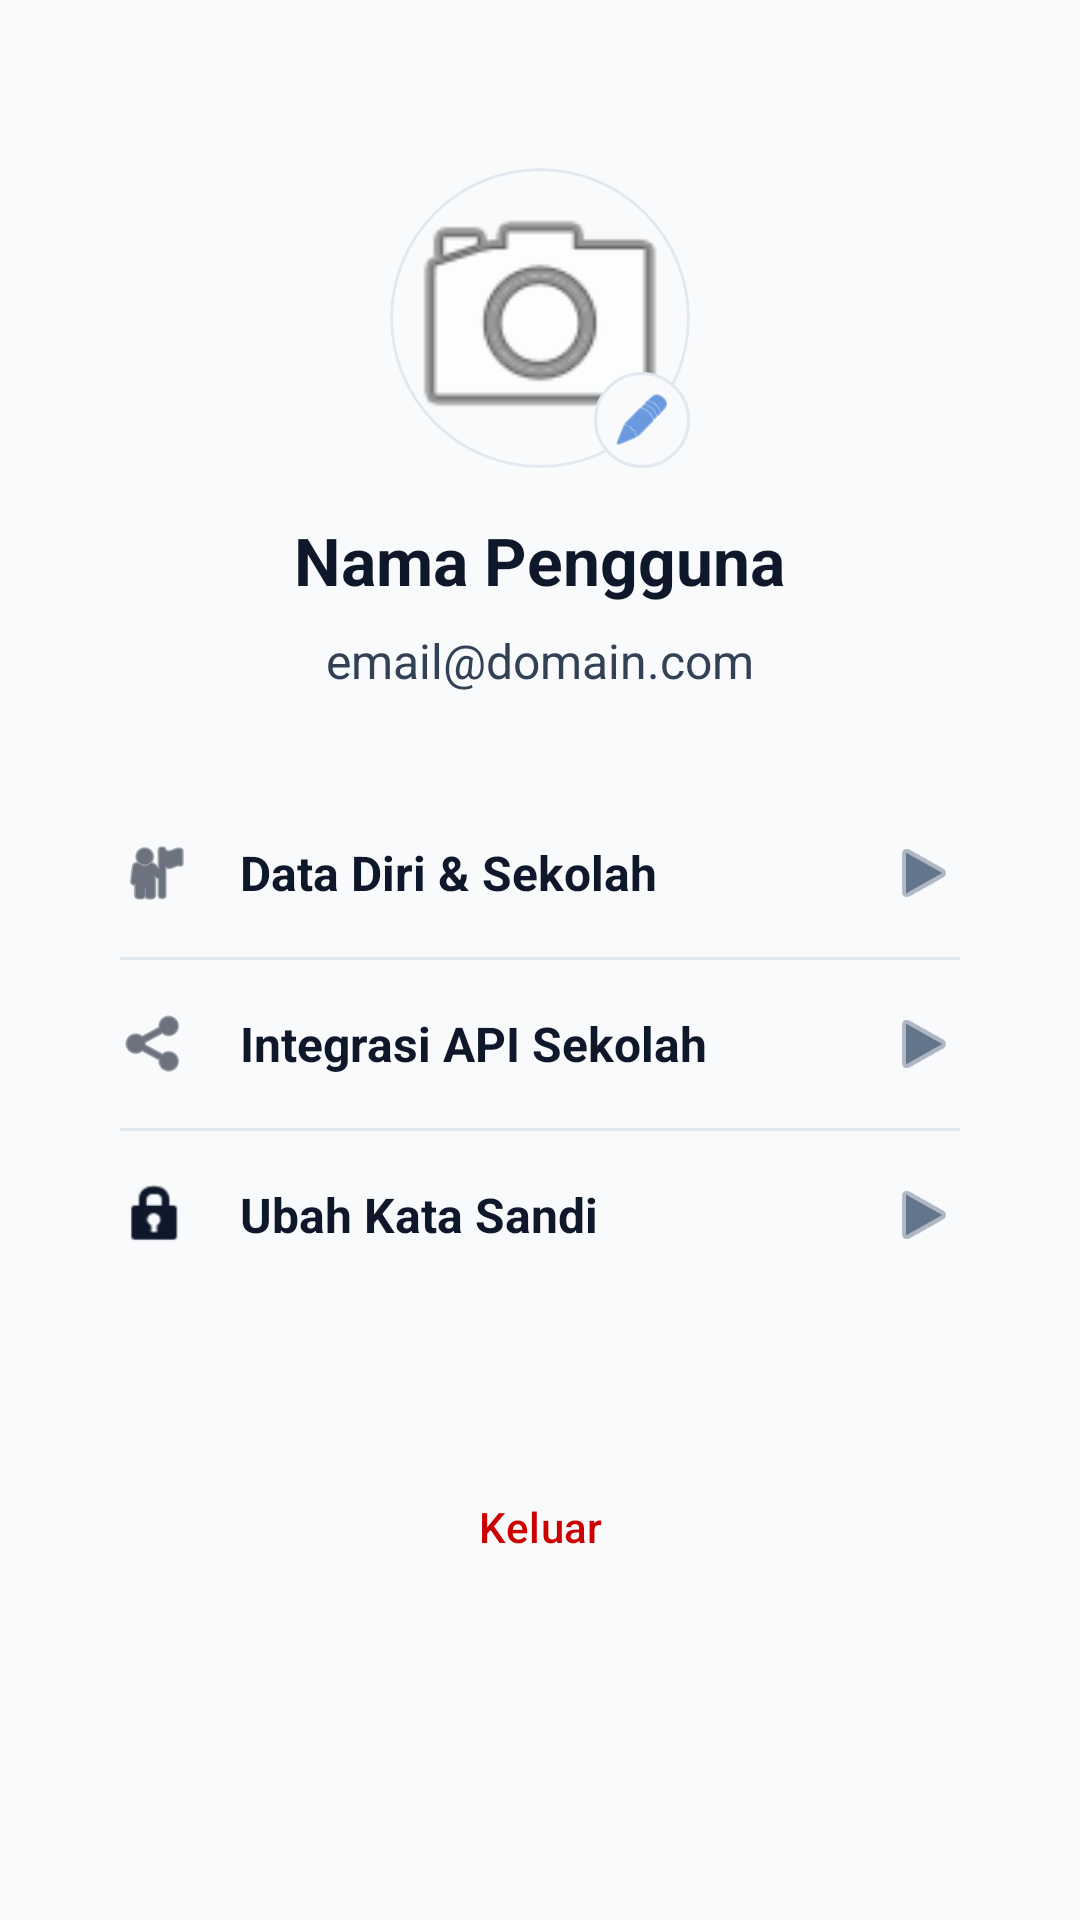

Locate icon controls on the screen. Image size 1080w x 1920h, boxes as (x1, y1, x2, y2).
Ikon Data Diri: (130, 846, 184, 900)
Ikon Integrasi API: (125, 1015, 179, 1072)
Ikon Ubah Sandi: (131, 1185, 178, 1240)
Tanda Panah Data Diri: (902, 849, 946, 897)
Tanda Panah Integrasi API: (902, 1020, 946, 1068)
Tanda Panah Ubah Sandi: (902, 1191, 946, 1239)
